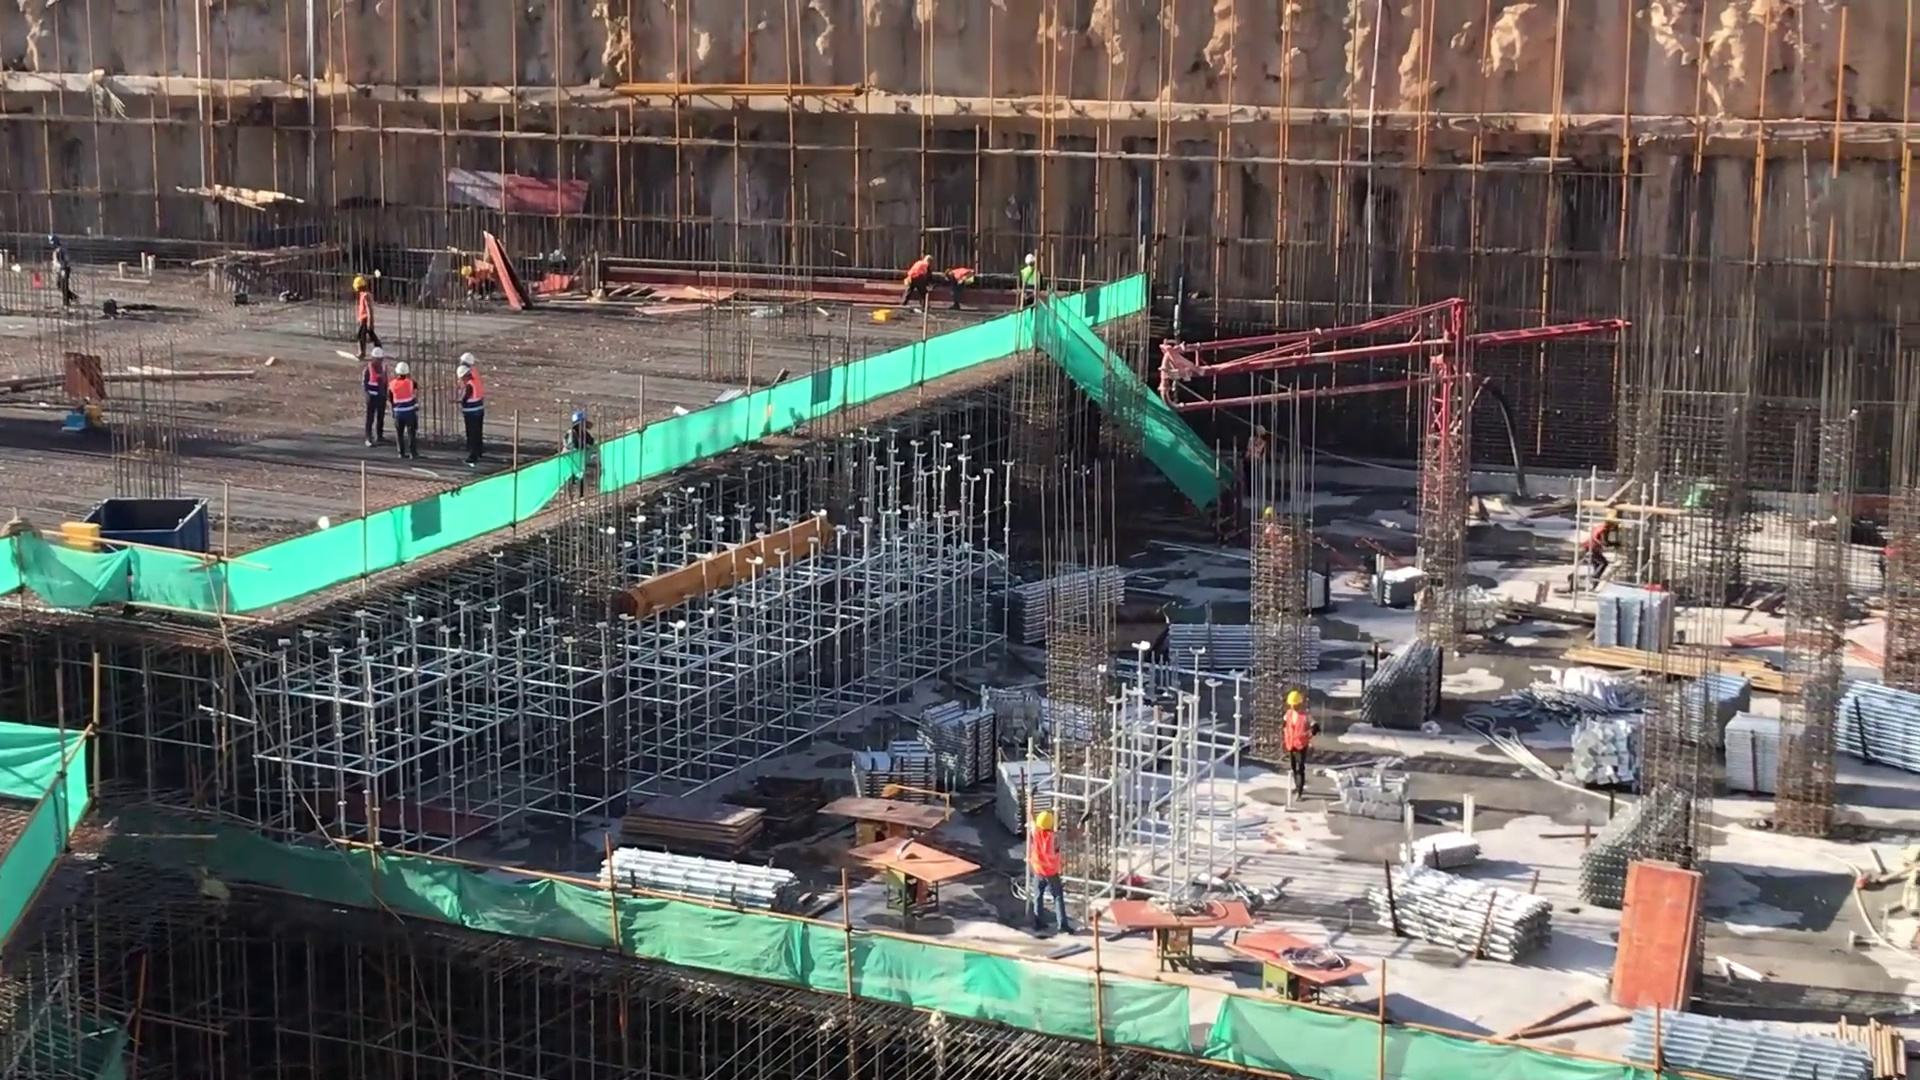helmet: (390, 360, 415, 378), (351, 272, 378, 288), (1036, 812, 1060, 831), (1287, 689, 1306, 708), (459, 346, 476, 365), (460, 262, 476, 280), (457, 363, 471, 382), (1022, 251, 1038, 266), (1252, 423, 1269, 437), (371, 345, 384, 361), (48, 235, 64, 246)
person: (1023, 811, 1075, 940), (1283, 692, 1323, 800), (1578, 507, 1624, 591), (388, 362, 420, 461), (43, 228, 78, 310), (455, 366, 483, 463), (351, 275, 385, 351), (566, 414, 594, 502), (362, 348, 387, 448), (1017, 251, 1050, 319), (897, 252, 937, 305), (1244, 421, 1272, 493), (944, 263, 981, 312), (459, 263, 492, 299)
vest: (1030, 830, 1065, 878), (1283, 708, 1317, 754), (391, 377, 419, 418), (358, 293, 378, 337), (459, 379, 483, 415), (1021, 266, 1043, 291), (951, 268, 976, 287), (906, 260, 929, 281)
